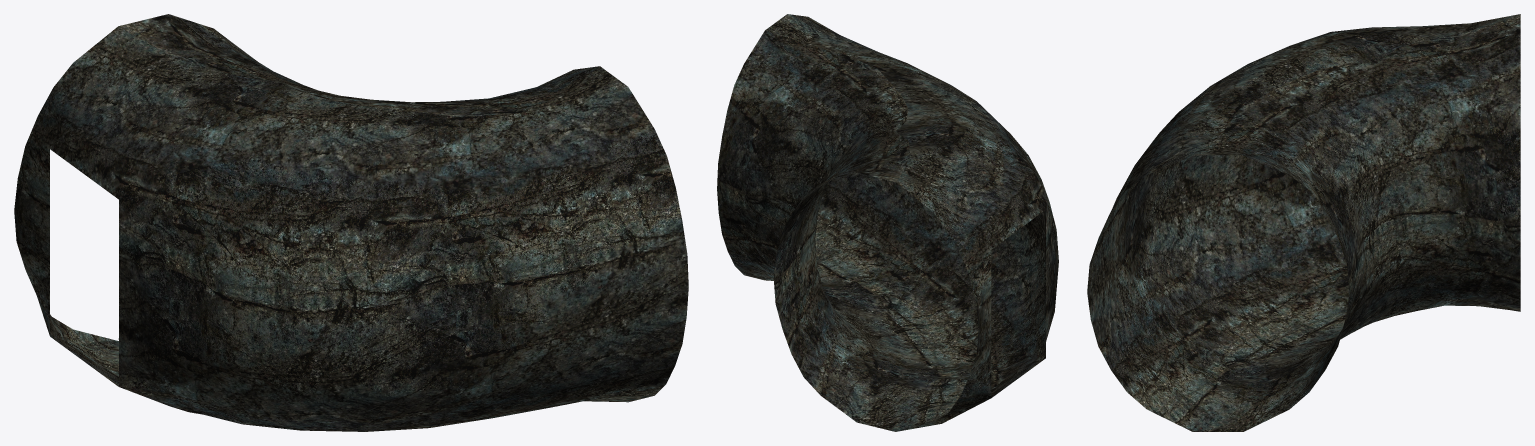
File: tunnel_theta_turn_sharp_doorway.dae
3 renders of one model, left to right at view 1: azimuth 30°, elevation 25°; view 2: azimuth 150°, elevation 25°; view 3: azimuth 270°, elevation 25°, orthographic. The views are drawn at different scales.
Visible parts, largest first — view 1: turn_sharp_door_side; view 2: turn_sharp_door_side; view 3: turn_sharp_door_side.
Part boxes in pixels (bbox=[...]): turn_sharp_door_side: bbox=[14, 14, 688, 431]; turn_sharp_door_side: bbox=[717, 14, 1058, 431]; turn_sharp_door_side: bbox=[1087, 14, 1520, 431].
Size of the model in its own units: 7.17 by 5.09 by 7.17.
